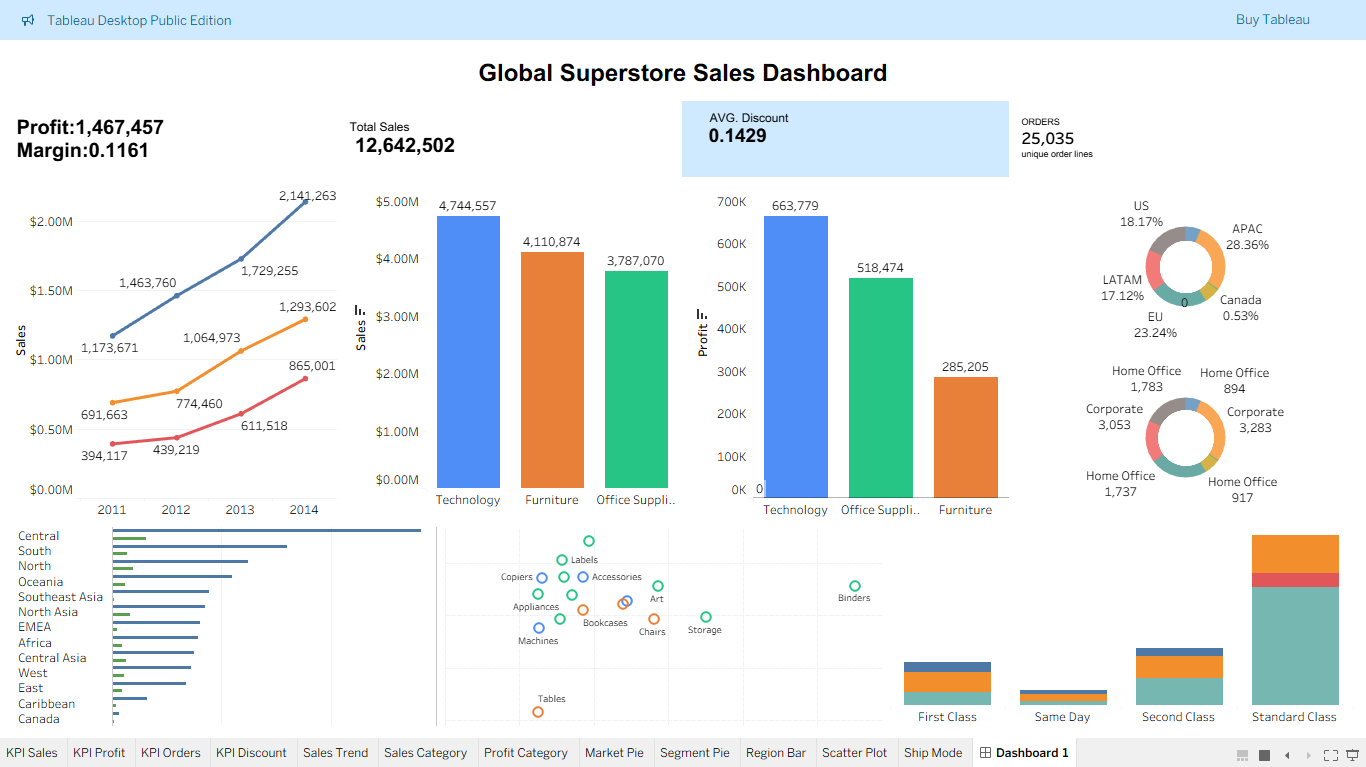

The page's visual inventory and layout, read from the dashboard file:
{"tool":"tableau","page":{"name":"Dashboard 1","canvas":[1000,1000],"units":"permille","ordinal":0},"visuals":[{"type":"text","box":[5.9,11.5,988.3,69.9]},{"type":"worksheet","title":"KPI Profit","mark":"Automatic","box":[5.9,81.3,243.8,120.4]},{"type":"worksheet","title":"KPI Sales","mark":"Automatic","box":[249.6,81.3,246.7,120.4]},{"type":"worksheet","title":"KPI Discount","mark":"Automatic","box":[496.3,81.3,245.2,120.4]},{"type":"worksheet","title":"KPI Orders","mark":"Automatic","box":[741.6,81.3,252.6,120.4]},{"type":"worksheet","title":"Sales Trend","mark":"Line","rows":["Sales"],"cols":["Order Date"],"box":[5.9,201.7,243.8,490.1]},{"type":"worksheet","title":"Sales Category","mark":"Automatic","rows":["Sales"],"cols":["Category"],"box":[249.6,201.7,250.1,490.1]},{"type":"worksheet","title":"Profit Category","mark":"Automatic","rows":["Profit"],"cols":["Category"],"box":[499.7,201.7,241.9,490.1]},{"type":"worksheet","title":"Market Pie","mark":"Pie","rows":["Calculation_1095728545239041","Calculation_1095728545267715"],"box":[741.6,201.7,252.6,245.1]},{"type":"worksheet","title":"Segment Pie","mark":"Pie","rows":["Calculation_0394239969087499","Calculation_0394239969112077"],"box":[741.6,446.8,252.6,245.1]},{"type":"worksheet","title":"Region Bar","mark":"Bar","rows":["Region"],"box":[5.9,691.9,317,296.7]},{"type":"worksheet","title":"Scatter Plot","mark":"Automatic","rows":["Calculation_1020411521843201"],"cols":["Discount"],"box":[322.9,691.9,325.8,296.7]},{"type":"worksheet","title":"Ship Mode","mark":"Bar","rows":["Order ID"],"cols":["Ship Mode"],"box":[648.6,691.9,345.5,296.7]}]}

Visuals, with their boxes on the dashboard's canvas, which has no fixed pixel size, in thousandths of its width and height (x1, y1, x2, y2). These are canvas units, not pixel positions in the 1366x767 screenshot, which may show the page scaled, cropped or inside an application window:
text: crop(6, 12, 994, 81)
"KPI Profit" worksheet: crop(6, 81, 250, 202)
"KPI Sales" worksheet: crop(250, 81, 496, 202)
"KPI Discount" worksheet: crop(496, 81, 742, 202)
"KPI Orders" worksheet: crop(742, 81, 994, 202)
"Sales Trend" worksheet (Line marks): crop(6, 202, 250, 692)
"Sales Category" worksheet: crop(250, 202, 500, 692)
"Profit Category" worksheet: crop(500, 202, 742, 692)
"Market Pie" worksheet (Pie marks): crop(742, 202, 994, 447)
"Segment Pie" worksheet (Pie marks): crop(742, 447, 994, 692)
"Region Bar" worksheet (Bar marks): crop(6, 692, 323, 989)
"Scatter Plot" worksheet: crop(323, 692, 649, 989)
"Ship Mode" worksheet (Bar marks): crop(649, 692, 994, 989)
